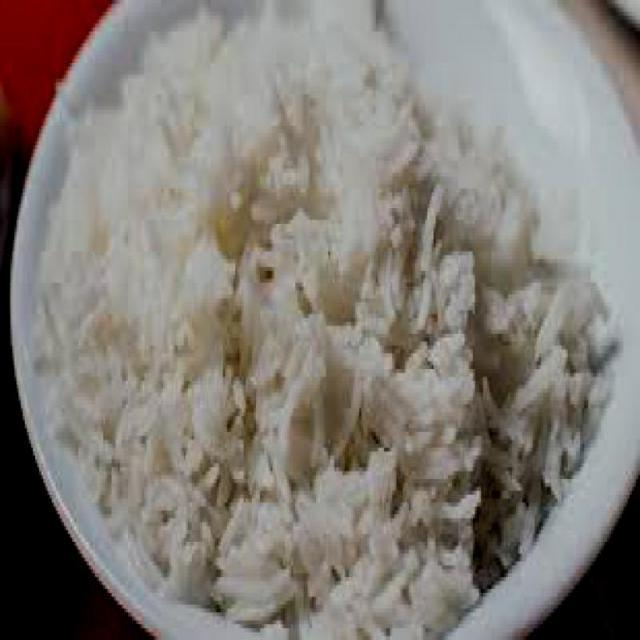rice: (31, 5, 617, 639)
